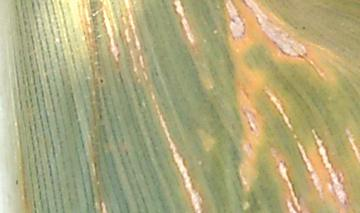tarspot: (98, 76, 105, 84), (300, 23, 307, 31), (13, 178, 20, 185)
